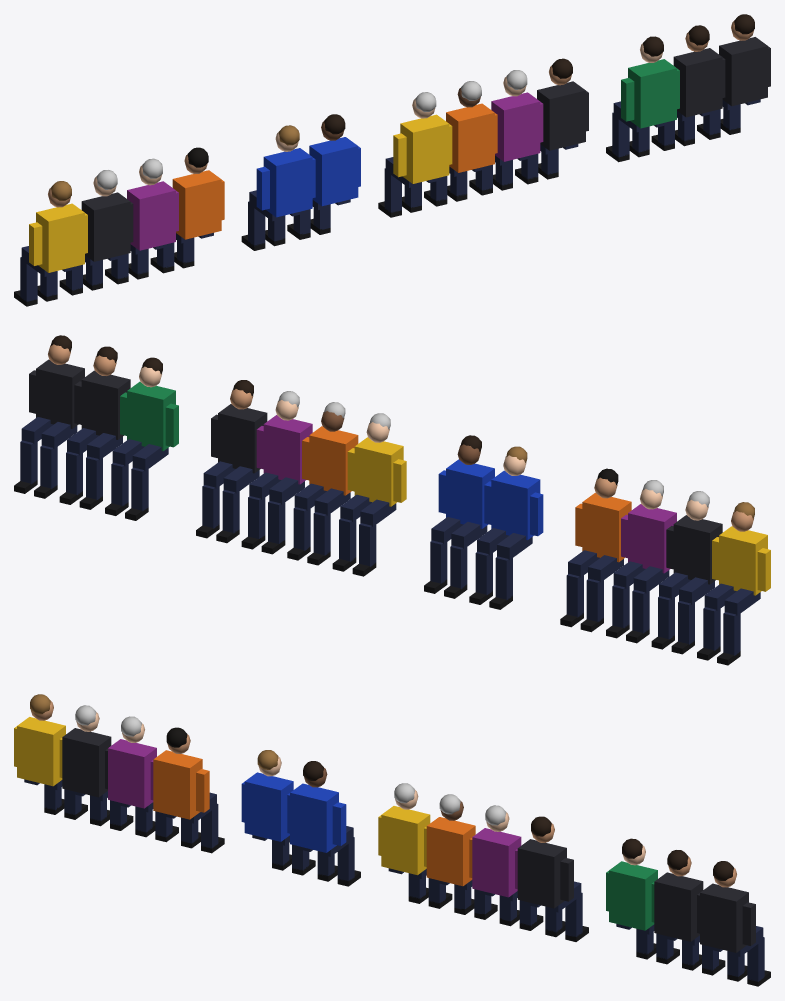
The model's file is Fila4.obj.
3 renders of one model, top to bottom at view 1: azimuth 30°, elevation 25°; view 2: azimuth 150°, elevation 25°; view 3: azimuth 330°, elevation 25°, orthographic.
Parts seen in each view (by area): view 1: Fila4; view 2: Fila4; view 3: Fila4.
Part boxes in pixels (bbox=[...]): Fila4: bbox=[14, 14, 770, 306]; Fila4: bbox=[14, 335, 770, 665]; Fila4: bbox=[14, 694, 770, 986].
Size of the model in its own units: 8.09 by 1.42 by 0.7127.
Materials: 1 (1 with a texture image).
